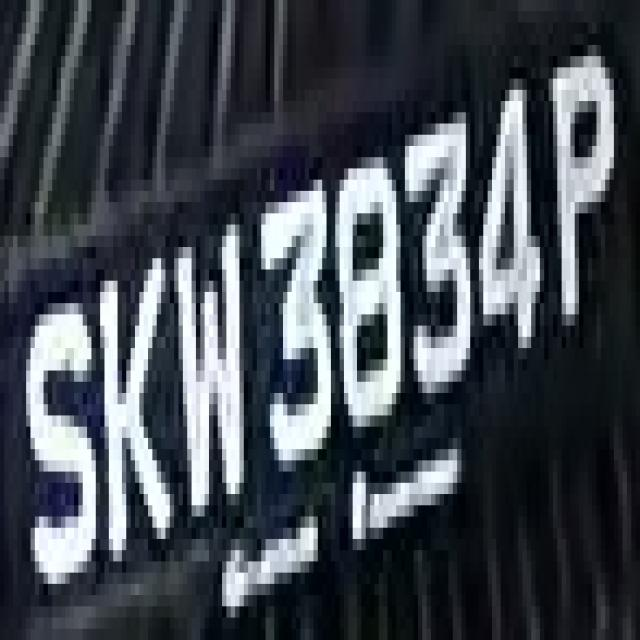3: (392, 56, 479, 427), (252, 146, 331, 472)
4: (474, 56, 536, 382)
8: (331, 123, 413, 438)
K: (96, 213, 174, 584)
P: (544, 22, 618, 326)
S: (18, 258, 104, 606)
W: (165, 202, 244, 505)
